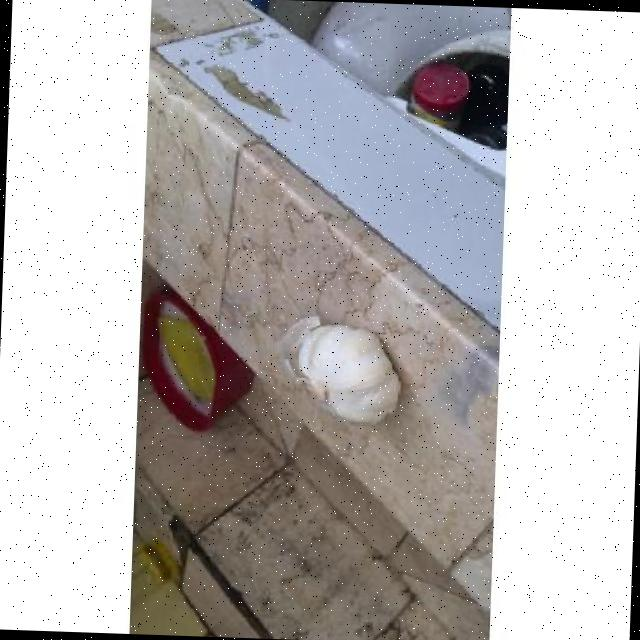garlic: (296, 324, 399, 423)
